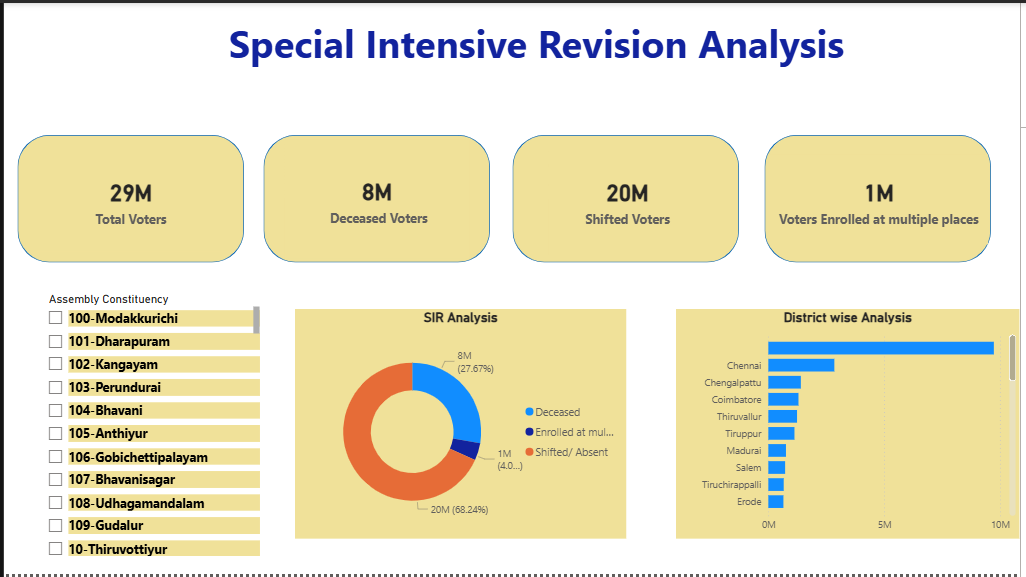

The dashboard page shown, as its layout file describes it:
{"tool":"powerbi","page":{"name":"Page 2","canvas":[1280,720],"ordinal":1},"visuals":[{"type":"shape","box":[17,166.3,285.4,160.6],"z":1},{"type":"shape","box":[640.6,166.3,285.4,160.6],"z":2},{"type":"shape","box":[958.1,166.3,285.4,160.6],"z":3},{"type":"shape","box":[326.9,166.3,285.4,160.6],"z":4},{"type":"card","fields":{"Values":["Sum(chennai-sir-additions-deletions-2026.Enrolled at multiple places)"]},"box":[963.8,190.9,275.9,113.4],"z":5},{"type":"card","fields":{"Values":["Sum(chennai-sir-additions-deletions-2026.Shifted/ Absent)"]},"box":[686,177.6,198.4,139.8],"z":6},{"type":"card","fields":{"Values":["Sum(chennai-sir-additions-deletions-2026.Deceased)"]},"box":[353.4,172,232.4,149.3],"z":7},{"type":"card","fields":{"Values":["Sum(chennai-sir-additions-deletions-2026.Total)"]},"box":[41.6,181.4,236.2,132.3],"z":8},{"type":"slicer","fields":{"Values":["chennai-sir-additions-deletions-2026.No and Name of the AC"]},"box":[43.5,359.1,283.5,342],"z":9},{"type":"donutChart","title":"SIR Analysis","fields":{"Y":["Sum(chennai-sir-additions-deletions-2026.Deceased)","Sum(chennai-sir-additions-deletions-2026.Enrolled at multiple places)","Sum(chennai-sir-additions-deletions-2026.Shifted/ Absent)"]},"box":[366.6,385.5,417.6,289.1],"z":10},{"type":"barChart","title":"District wise Analysis","fields":{"Category":["chennai-sir-additions-deletions-2026.Name of the District"],"Y":["Sum(chennai-sir-additions-deletions-2026.Total)"]},"box":[846.6,385.5,432.8,289.1],"z":11},{"type":"textbox","box":[0,0,1279.4,141.7],"z":12}]}

Visuals, with their boxes in screenshot pixels (x1, y1, x2, y2), scaled from the page's 1280x720 canvas onto the 1026x577 screenshot:
shape: 14, 133, 242, 262
shape: 513, 133, 742, 262
shape: 768, 133, 997, 262
shape: 262, 133, 491, 262
card - Sum(chennai-sir-additions-deletions-2026.Enrolled at multiple places): 773, 153, 994, 244
card - Sum(chennai-sir-additions-deletions-2026.Shifted/ Absent): 550, 142, 709, 254
card - Sum(chennai-sir-additions-deletions-2026.Deceased): 283, 138, 470, 257
card - Sum(chennai-sir-additions-deletions-2026.Total): 33, 145, 223, 251
slicer - chennai-sir-additions-deletions-2026.No and Name of the AC: 35, 288, 262, 562
"SIR Analysis" donutChart: 294, 309, 629, 541
"District wise Analysis" barChart: 679, 309, 1025, 541
textbox: 0, 0, 1025, 114
